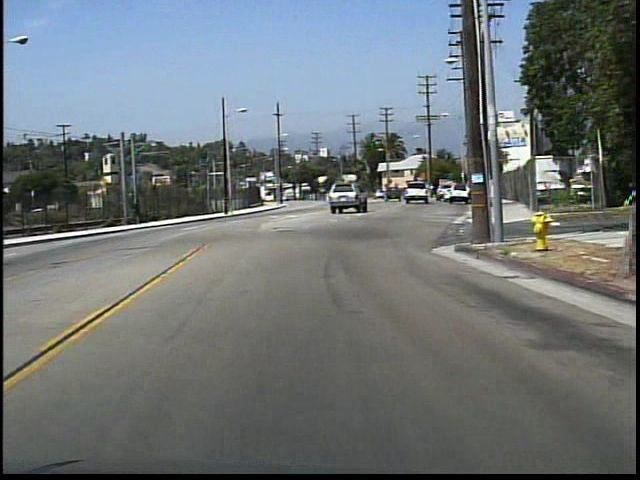person: (132, 194, 147, 226)
